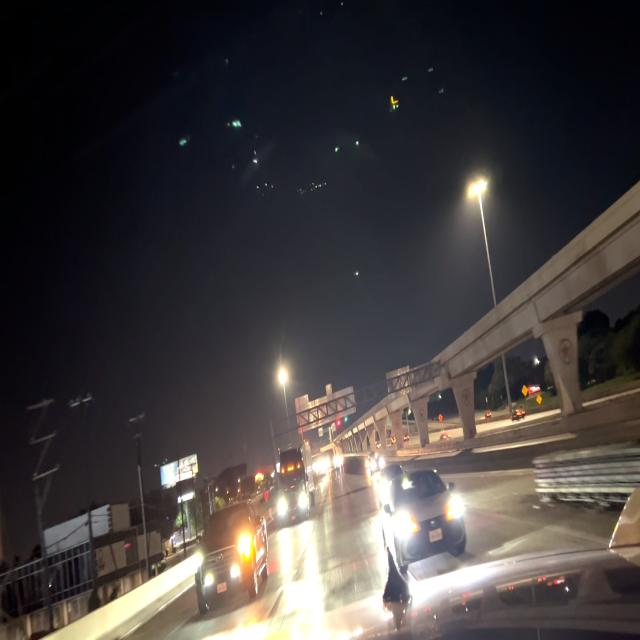back-of-sign: (294, 383, 359, 434), (384, 362, 416, 404)
